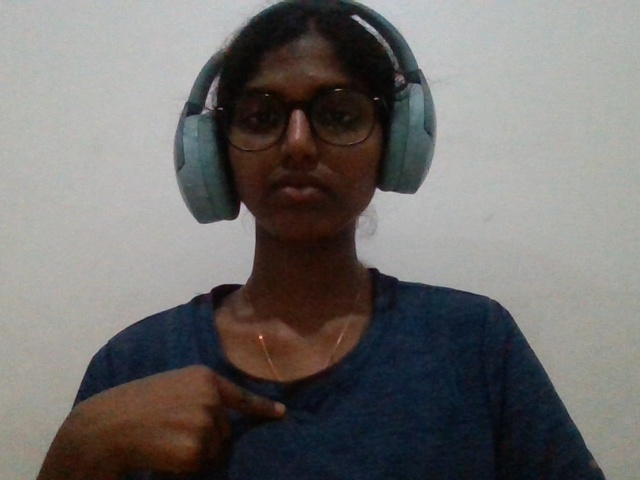Me: (37, 322, 337, 480)
